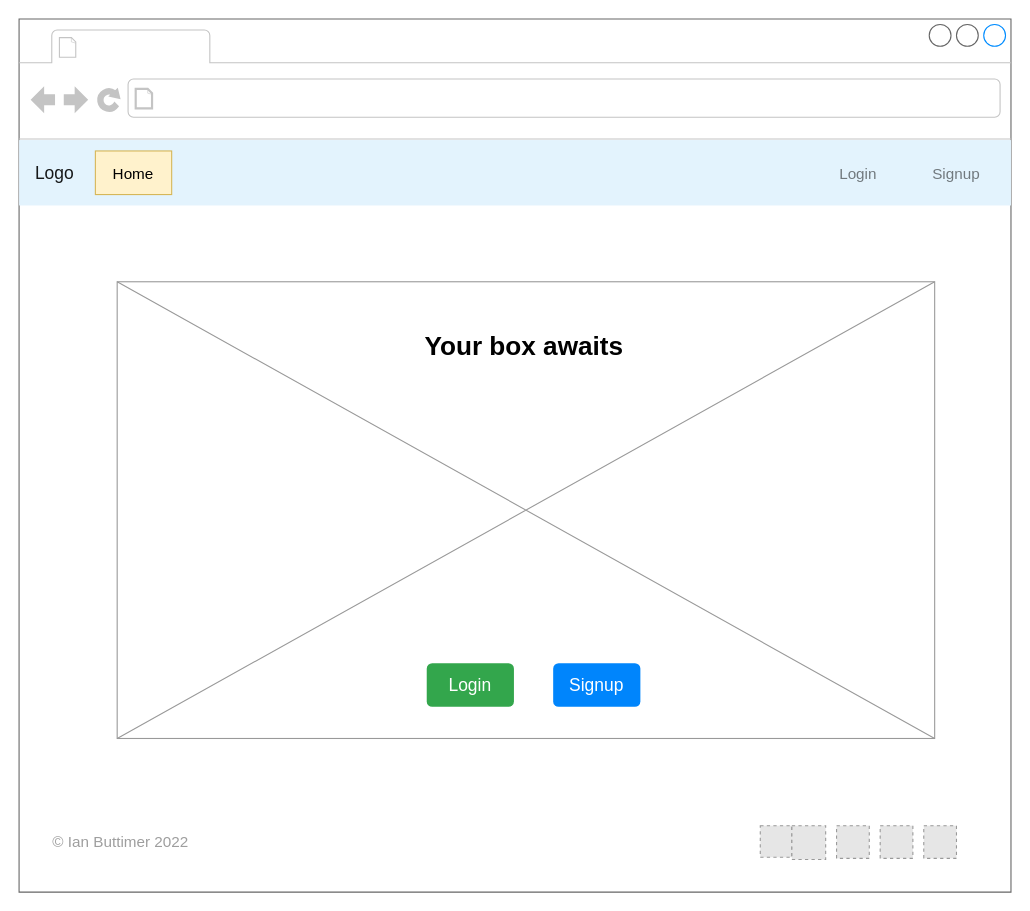
Image size: 1030x911. Some labels were removed from this diagram. Grey dashed boxes stand in for pictures. Each missing label, with the centre of its shape:
https://soapbox-opinions.herokuapp.com/: [296,98]
SoapBox: [143,45]
